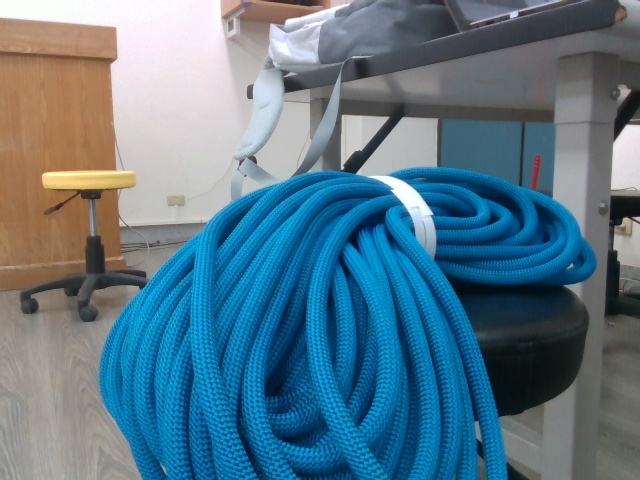rope: (94, 163, 603, 480)
